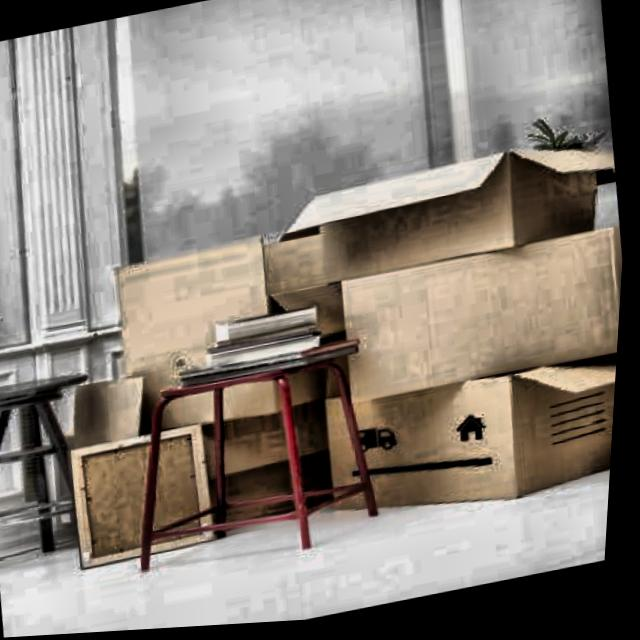Cardbox: (54, 280, 397, 600), (254, 143, 632, 420), (289, 358, 622, 545), (103, 218, 359, 396)
